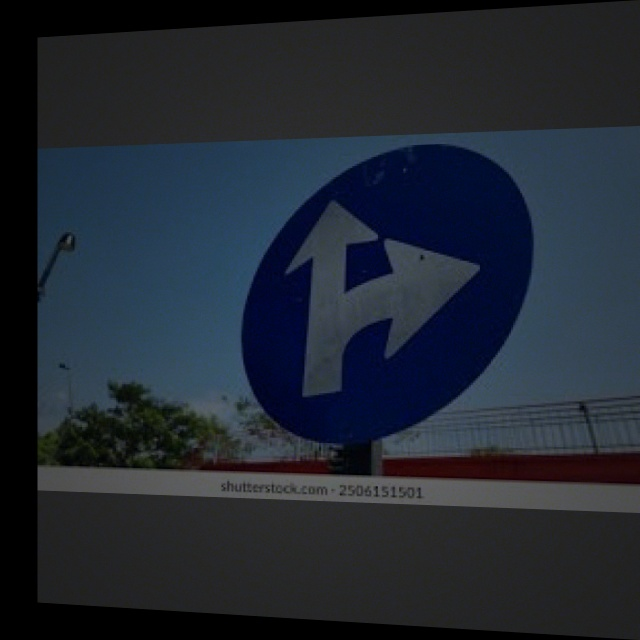Compulsory_Ahead_or_Turn_Right: (246, 152, 523, 454)
